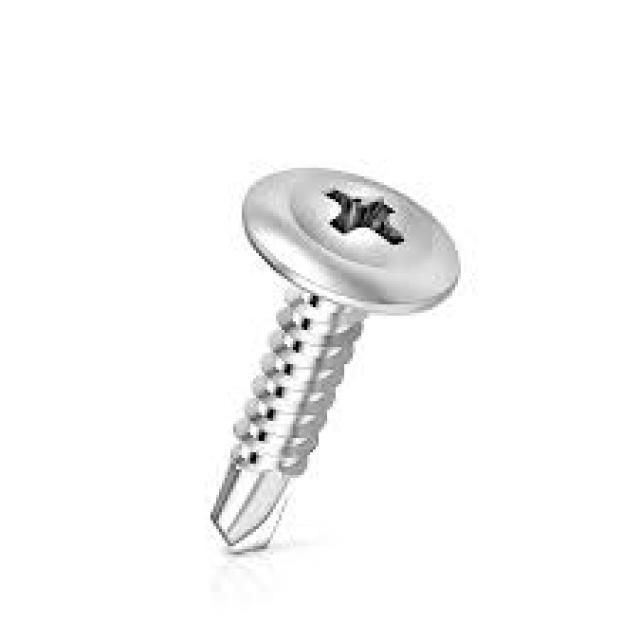Screw: (208, 168, 461, 558)
